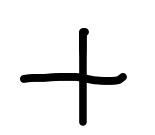plus: (19, 28, 126, 123)
